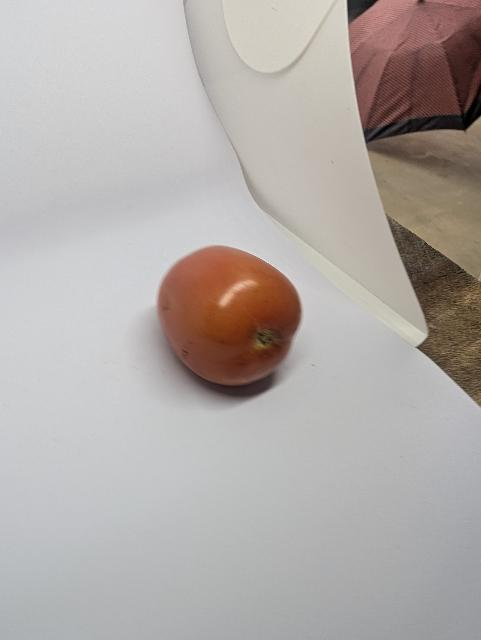red: (149, 232, 315, 399)
